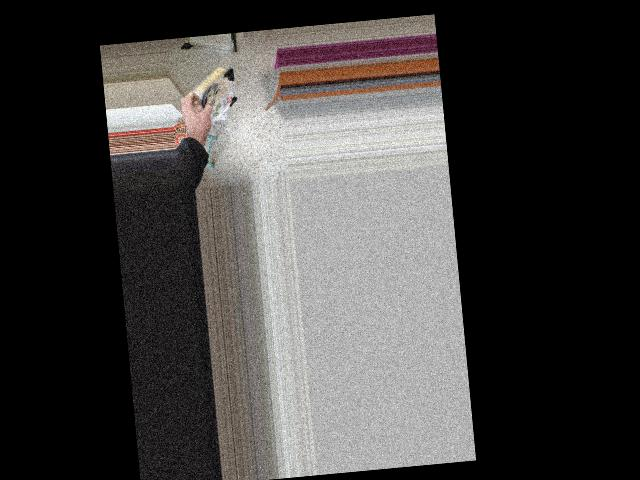cheese: (172, 50, 255, 122)
